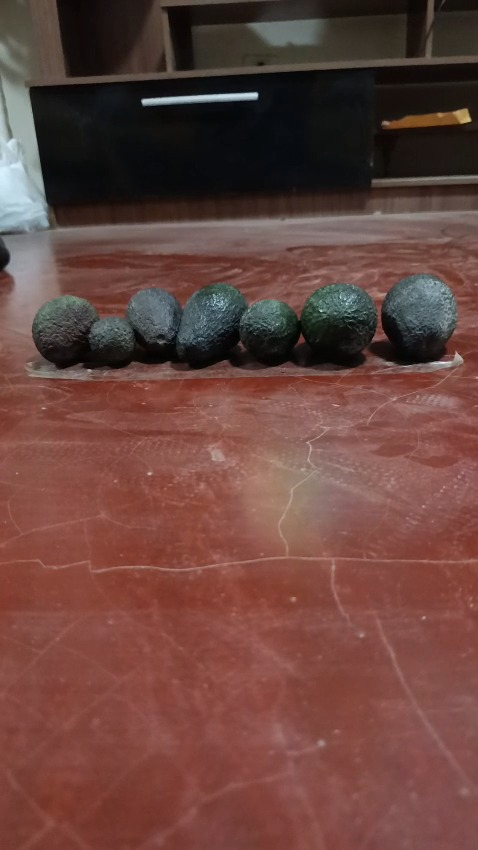Primera: (381, 273, 458, 361), (300, 282, 378, 359), (175, 282, 246, 366)
Segunda: (31, 295, 99, 366), (239, 299, 299, 365), (125, 286, 182, 355)
Tercera: (86, 315, 136, 368)
